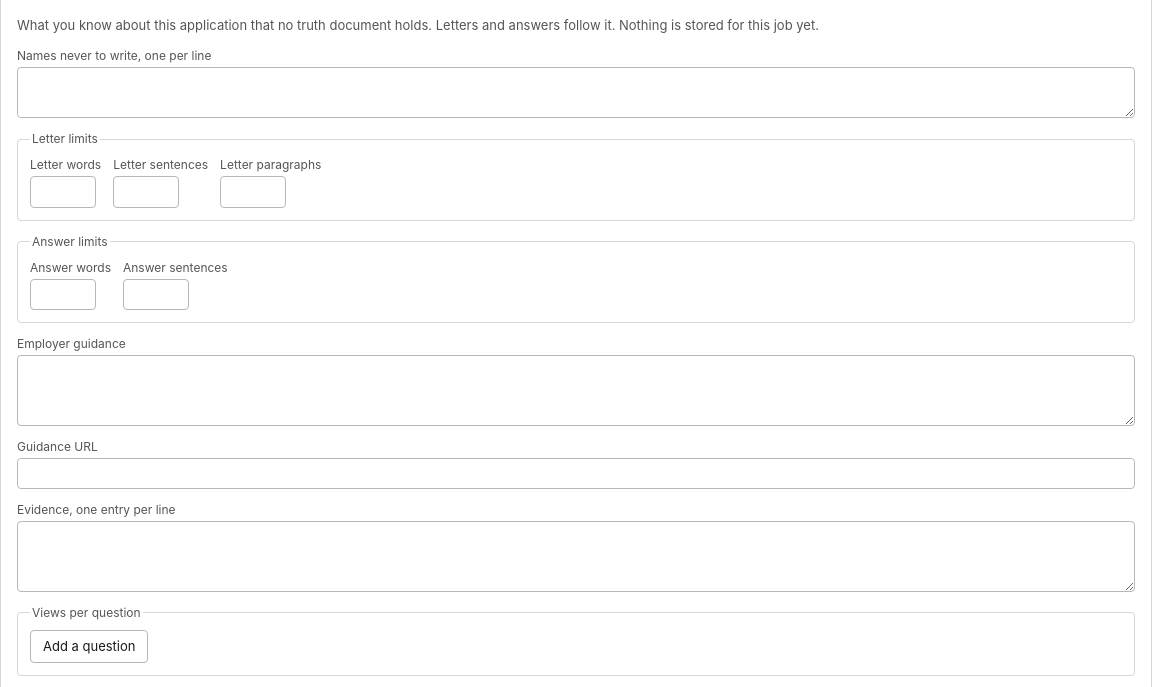
Test: a question can be added and removed
Click the button "Add a question" at (89, 646), box x1=30 y1=630 x2=148 y2=663
(page scrolled)
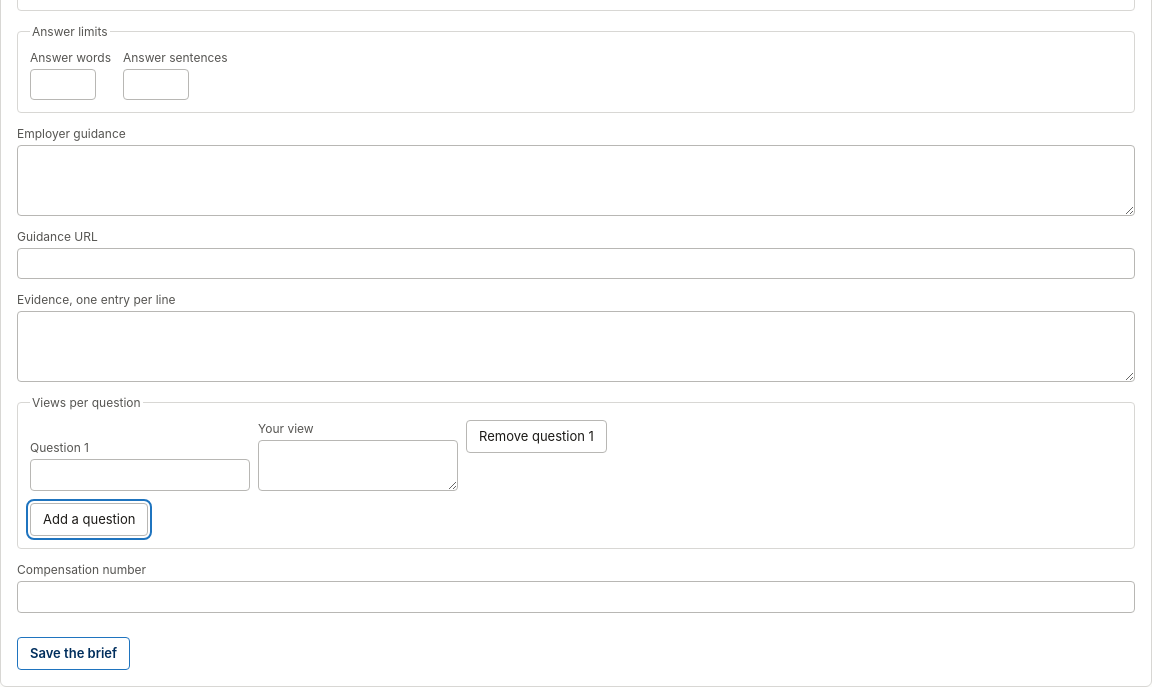
Type "Why this team?" into the field labelled "Question 1" at (140, 475), box x1=30 y1=459 x2=250 y2=490
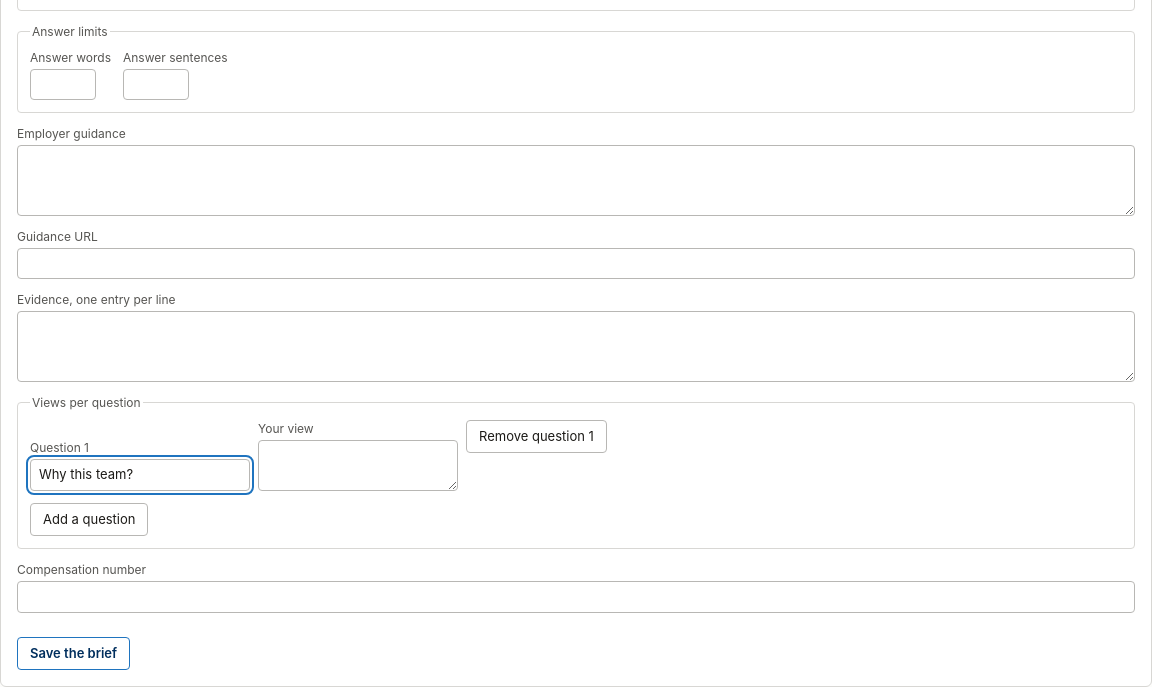
Click the button "Remove question 1" at (536, 436), box x1=466 y1=420 x2=607 y2=453
(page scrolled)
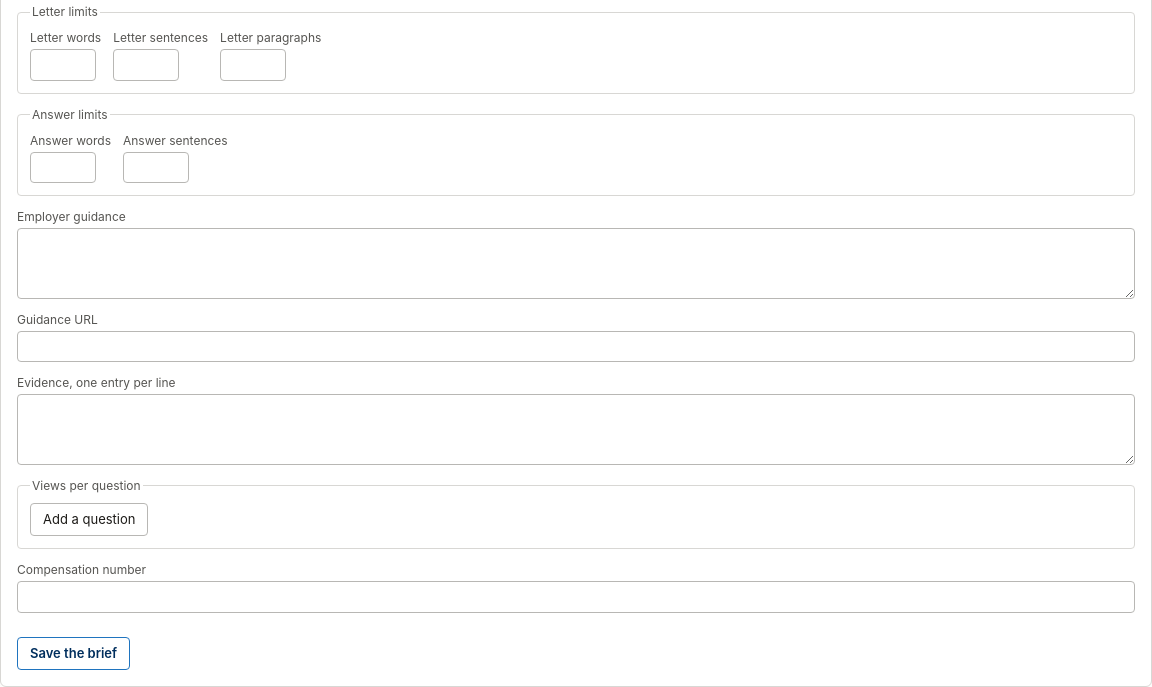
expect the text labelled "Question 1" is gone: met
